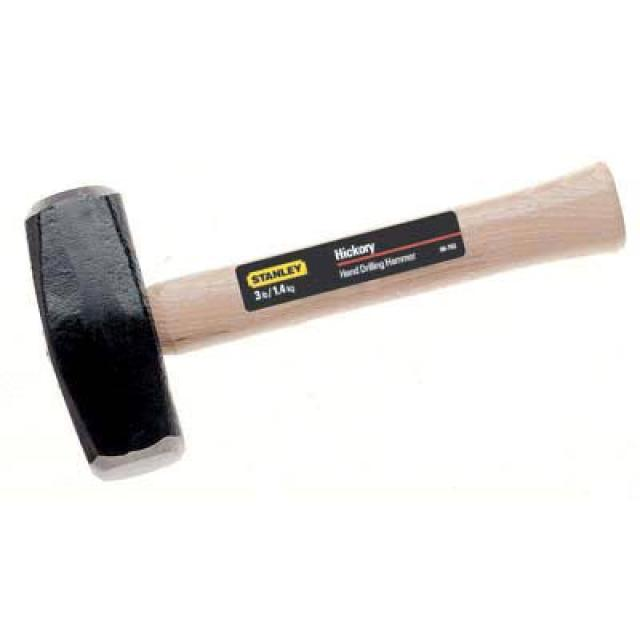hammer: (0, 85, 640, 491)
